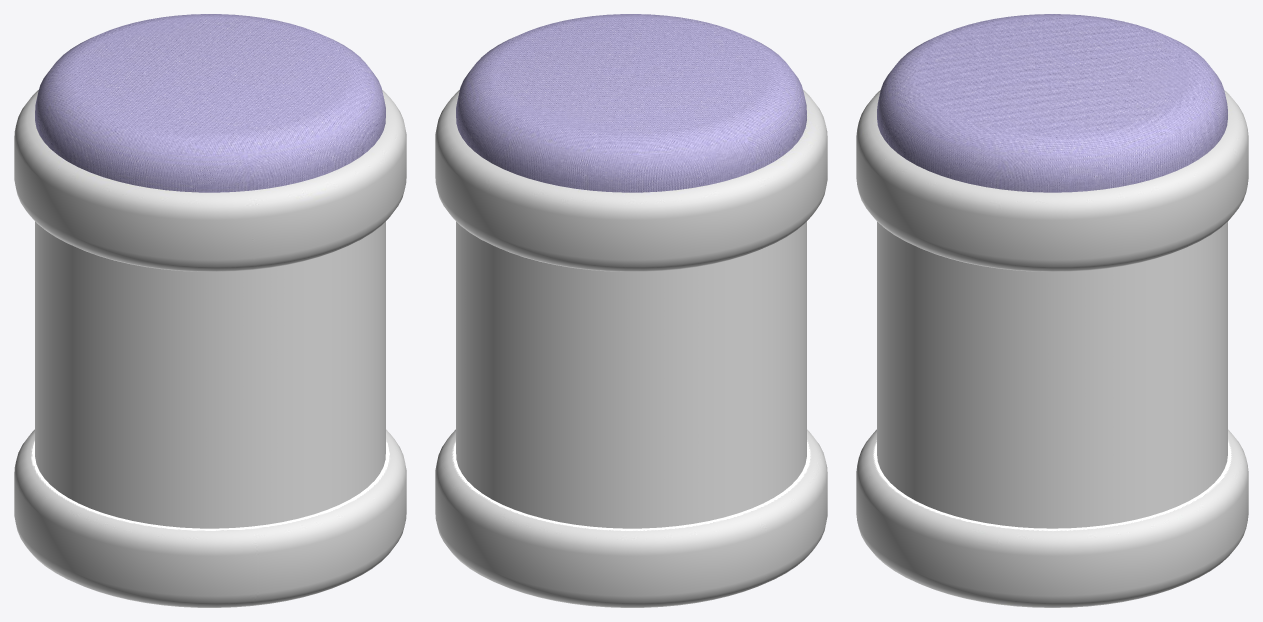
The model's file is SciFiChair.fbx.
3 renders of one model, left to right at view 1: azimuth 30°, elevation 25°; view 2: azimuth 150°, elevation 25°; view 3: azimuth 270°, elevation 25°, orthographic.
Visible parts, largest first — view 1: SciFiChair, Gradient; view 2: SciFiChair, Gradient; view 3: SciFiChair, Gradient.
Boxes of the visible parts, left/top/right/bottom form: SciFiChair: left=14, top=14, right=406, bottom=607; Gradient: left=35, top=221, right=385, bottom=528; SciFiChair: left=435, top=14, right=827, bottom=607; Gradient: left=456, top=221, right=806, bottom=528; SciFiChair: left=856, top=14, right=1248, bottom=607; Gradient: left=877, top=222, right=1227, bottom=528.
Bounding box in the file's own units: 54.58 × 70.04 × 54.58.
Materials: 2 (2 with a texture image).
